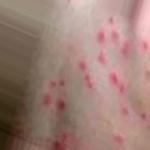Fleas: (106, 69, 128, 91), (53, 132, 73, 149), (117, 39, 134, 56), (84, 74, 96, 88), (55, 97, 65, 111), (98, 49, 107, 64), (42, 93, 51, 107), (140, 37, 149, 51), (113, 133, 124, 143), (97, 30, 106, 42), (111, 30, 120, 41), (120, 104, 129, 115), (79, 60, 86, 73), (50, 80, 58, 88), (107, 16, 114, 25), (59, 79, 64, 85)
